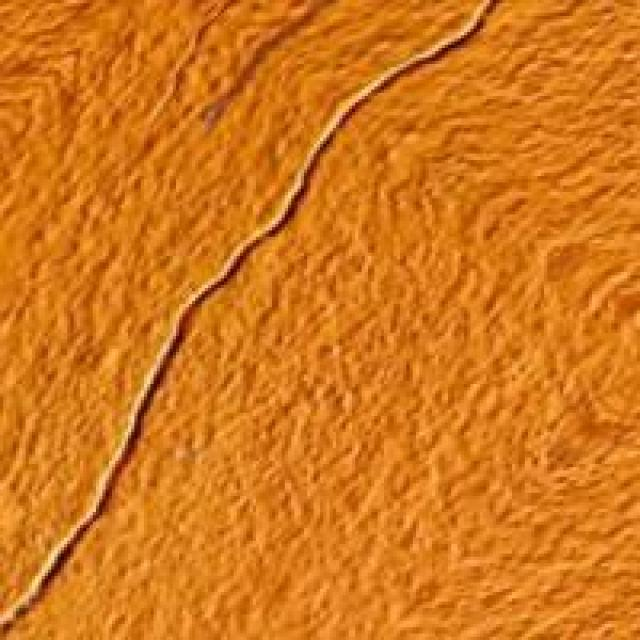crack: (0, 6, 509, 637)
